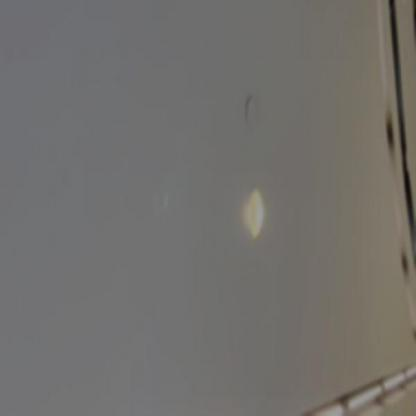light_on: (240, 181, 268, 245), (344, 377, 384, 411), (290, 391, 346, 415), (382, 366, 406, 397), (404, 359, 416, 395)
